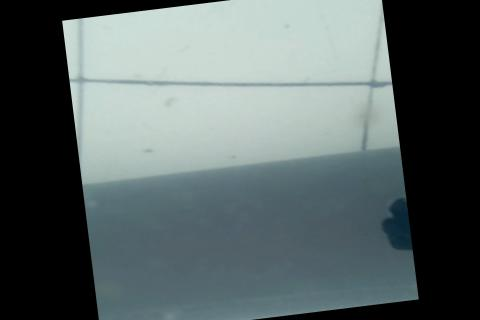kebocoran: (376, 197, 412, 255)
